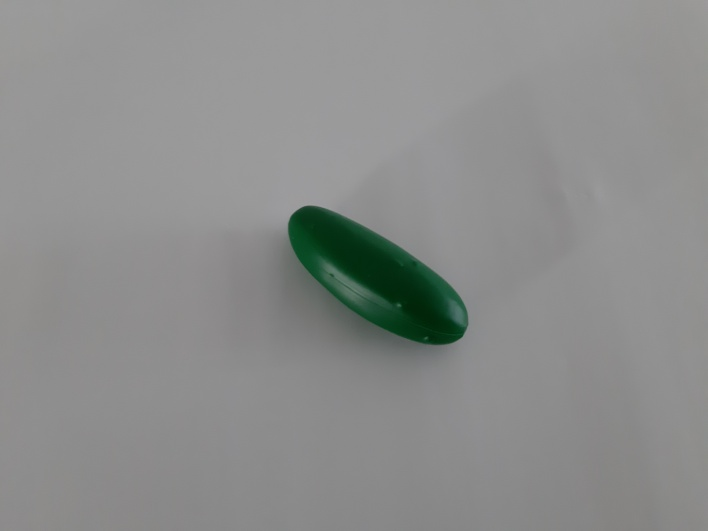cucumber: (269, 185, 509, 371)
